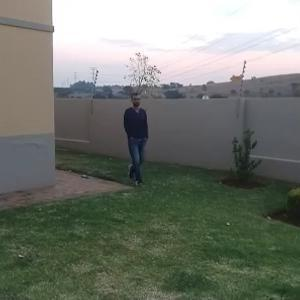follow: (116, 89, 149, 186)
